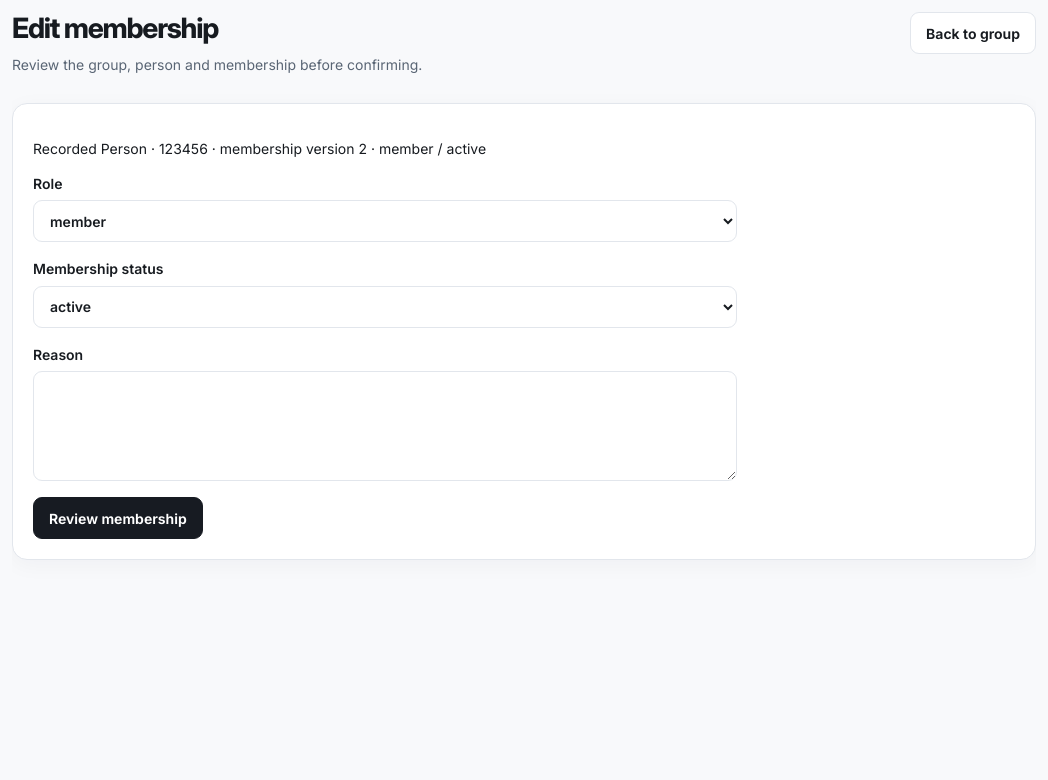
legacy membership pages › blocks a write when fresh account verification fails
This screenshot has width=1048, height=780.
Select "admin" in the dropdown labelled "Role". click: coordinates (385, 221)
box: [33,200,737,242]
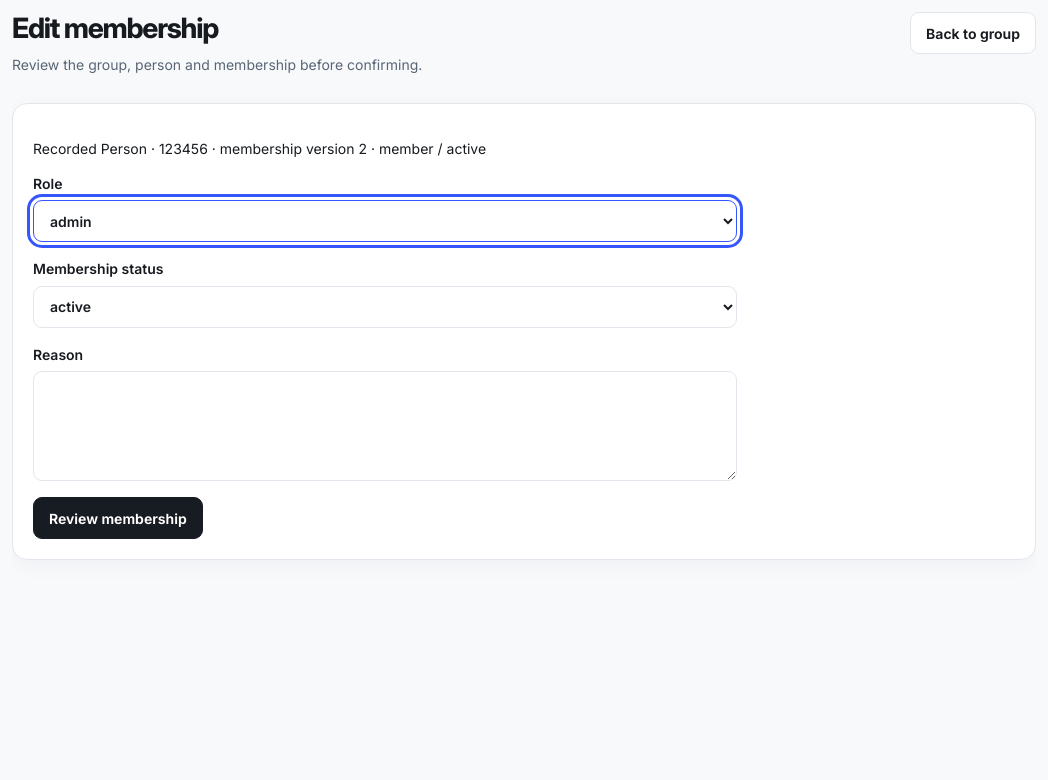
Type "Review membership change" into the text box labelled "Reason". click: coordinates (385, 426)
box: [33,371,737,481]
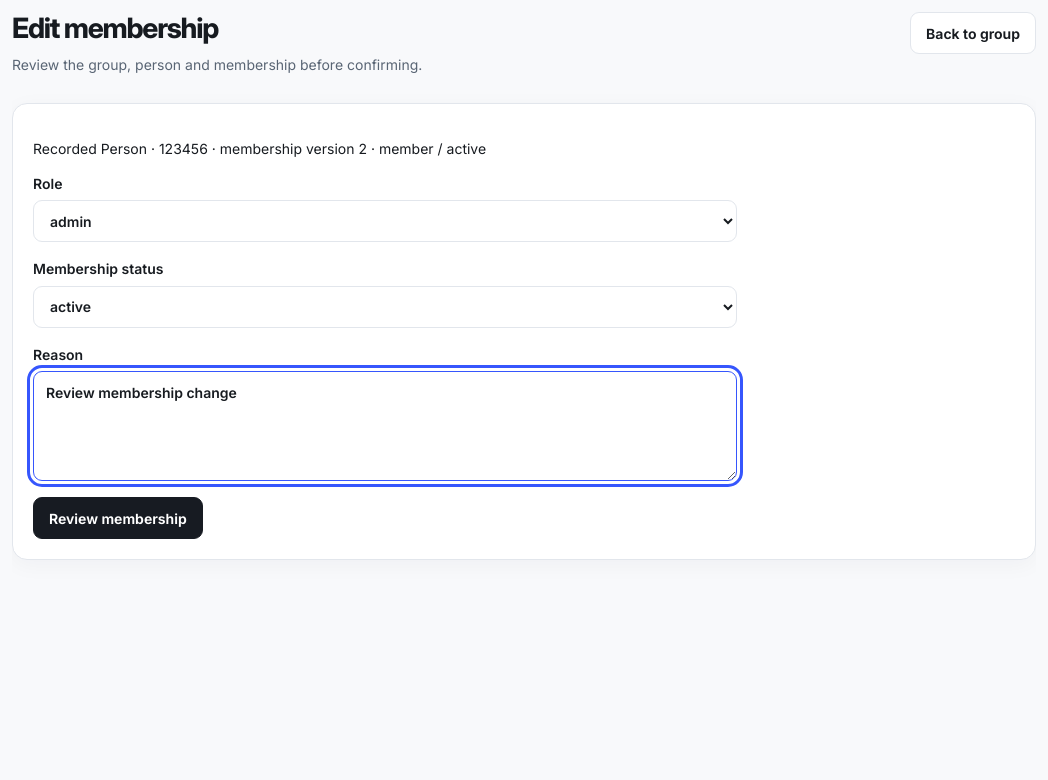
Click the button "Review membership". click: coordinates (118, 518)
box: [33,497,203,539]
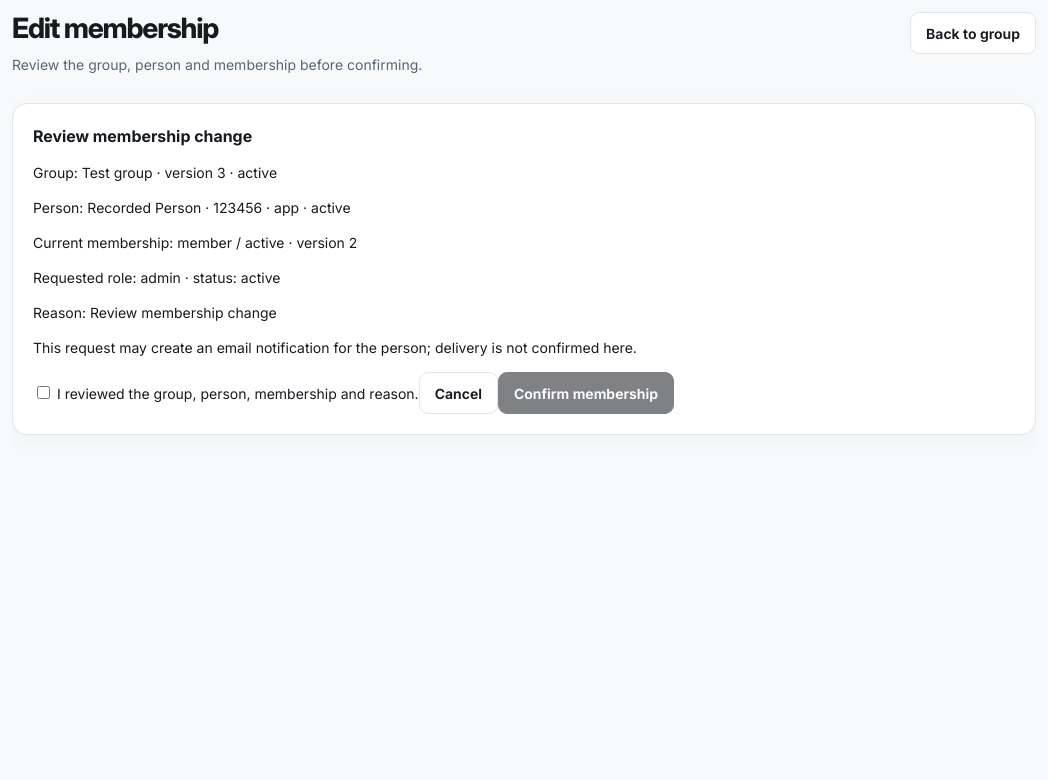
Click the checkbox labelled "I reviewed the group, person, membership and reason.". click: coordinates (44, 392)
box: [37,386,50,398]
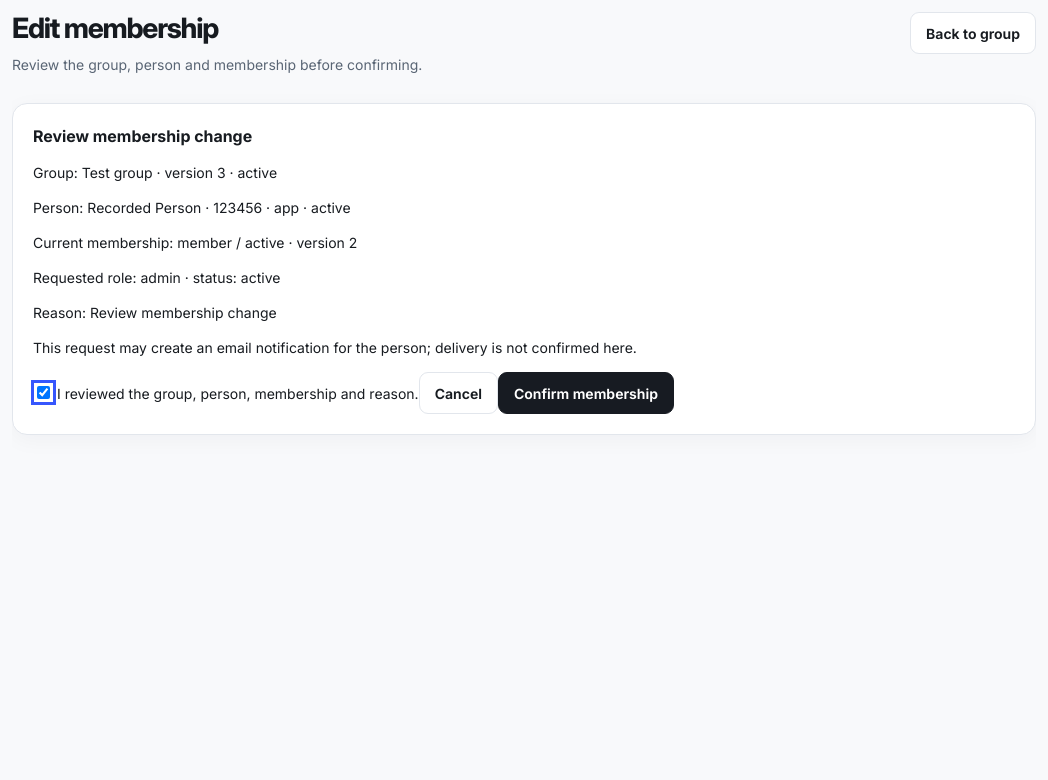
Click the button "Confirm membership". click: coordinates (586, 393)
box: [498,372,674,414]
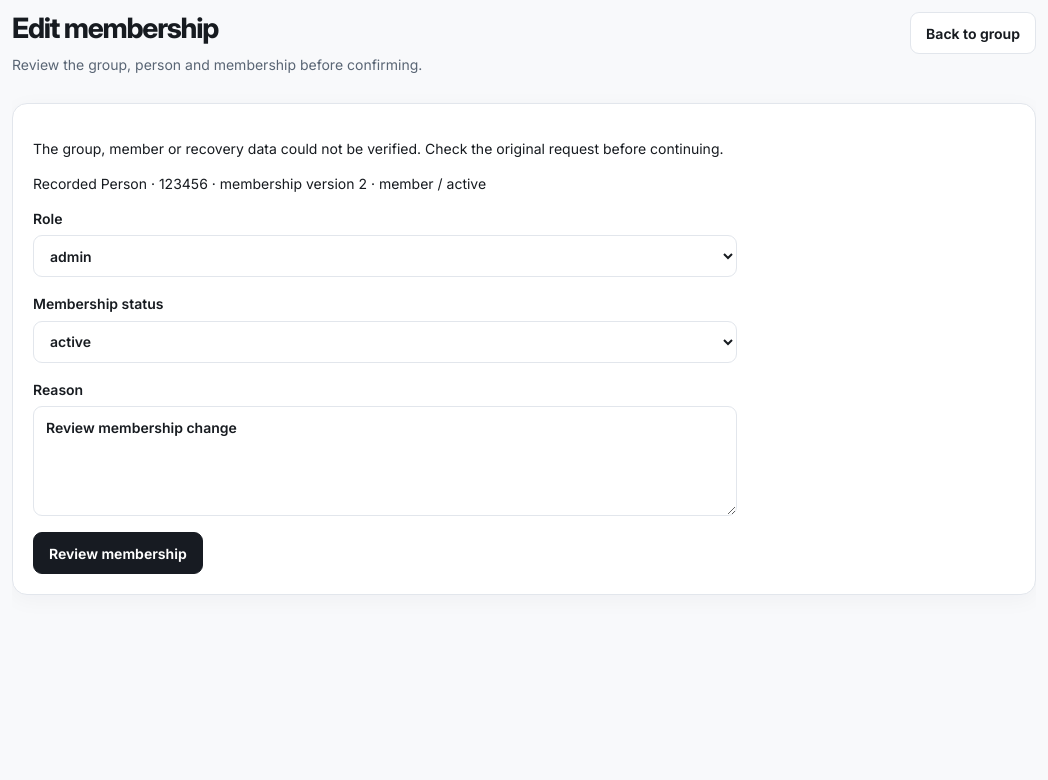
Result: the text "recovery data could not be verified" is shown at [33,140,724,157]
